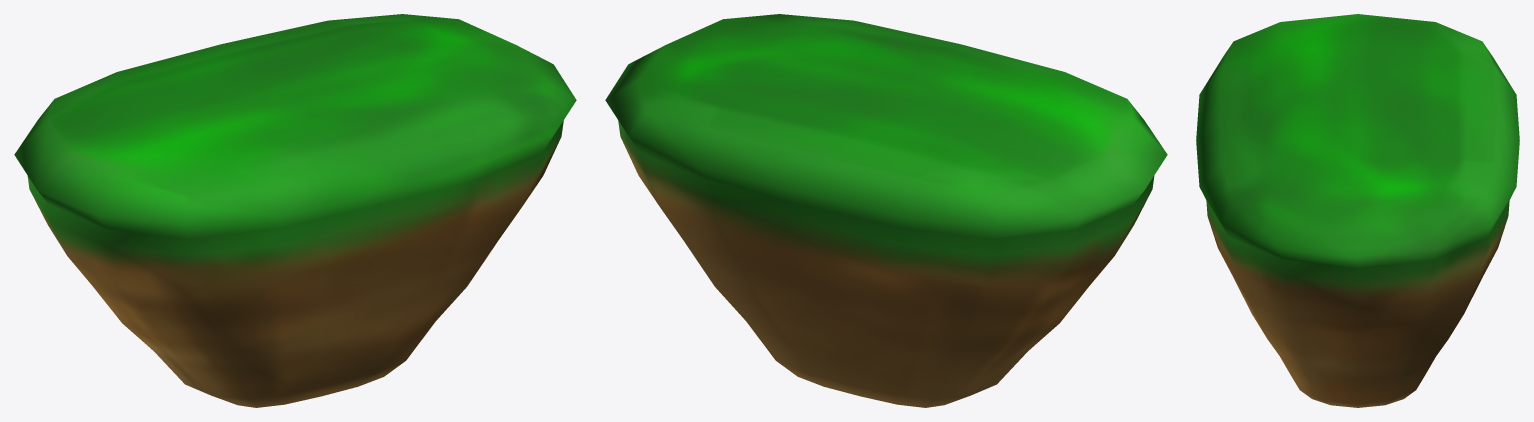
Rendered from Platform.fbx.
3 views of the same model, side by side, from view 1: azimuth 30°, elevation 25°; view 2: azimuth 150°, elevation 25°; view 3: azimuth 270°, elevation 25° (orthographic). The views are drawn at different scales.
Parts seen in each view (by area): view 1: Cube.001; view 2: Cube.001; view 3: Cube.001.
Part boxes in pixels (x1=…): Cube.001: x1=14, y1=14, x2=576, y2=407; Cube.001: x1=605, y1=14, x2=1167, y2=407; Cube.001: x1=1196, y1=14, x2=1519, y2=407.
Bounding box in the file's own units: 350 × 193 × 204.
1 material, 1 textured.
